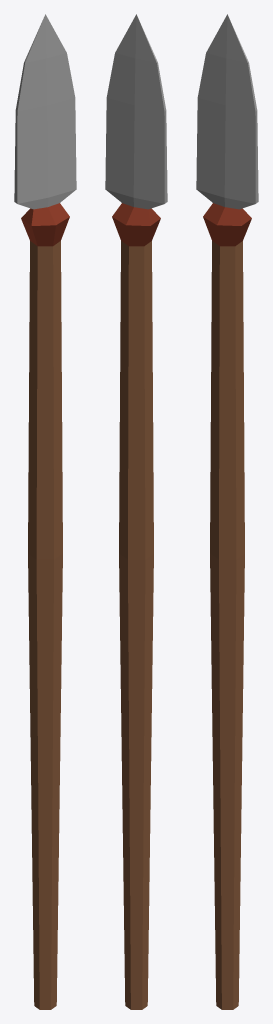
The model's file is Spear_short_wide.fbx.
3 views of the same model, side by side, from view 1: azimuth 30°, elevation 25°; view 2: azimuth 150°, elevation 25°; view 3: azimuth 330°, elevation 25° (orthographic).
Visible parts, largest first — view 1: Spear_short_wide; view 2: Spear_short_wide; view 3: Spear_short_wide.
Part boxes in pixels (<box>): Spear_short_wide: <box>14,14,76,1009</box>; Spear_short_wide: <box>105,14,167,1009</box>; Spear_short_wide: <box>196,14,258,1009</box>.
Size of the model in its own units: 10.83 by 173 by 6.67.
